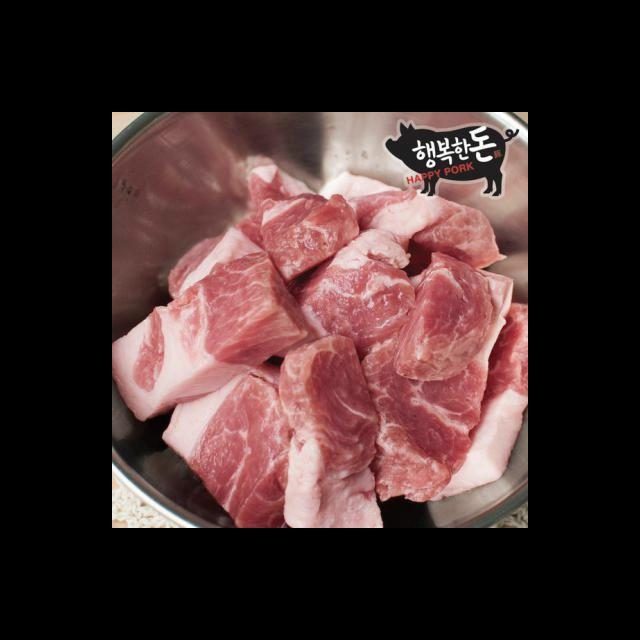pork: (112, 154, 527, 527)
